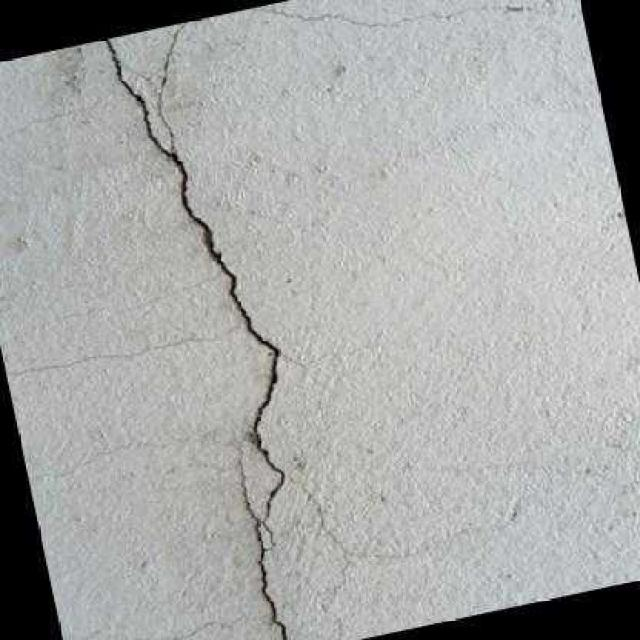D00: (102, 38, 284, 550), (239, 471, 288, 640), (156, 21, 187, 150), (246, 7, 369, 27)
